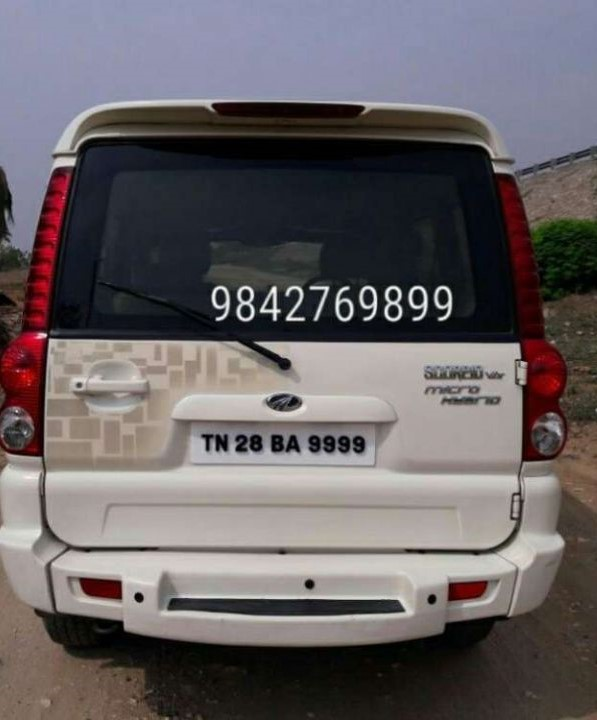TN28BA9999: (188, 422, 375, 464)
